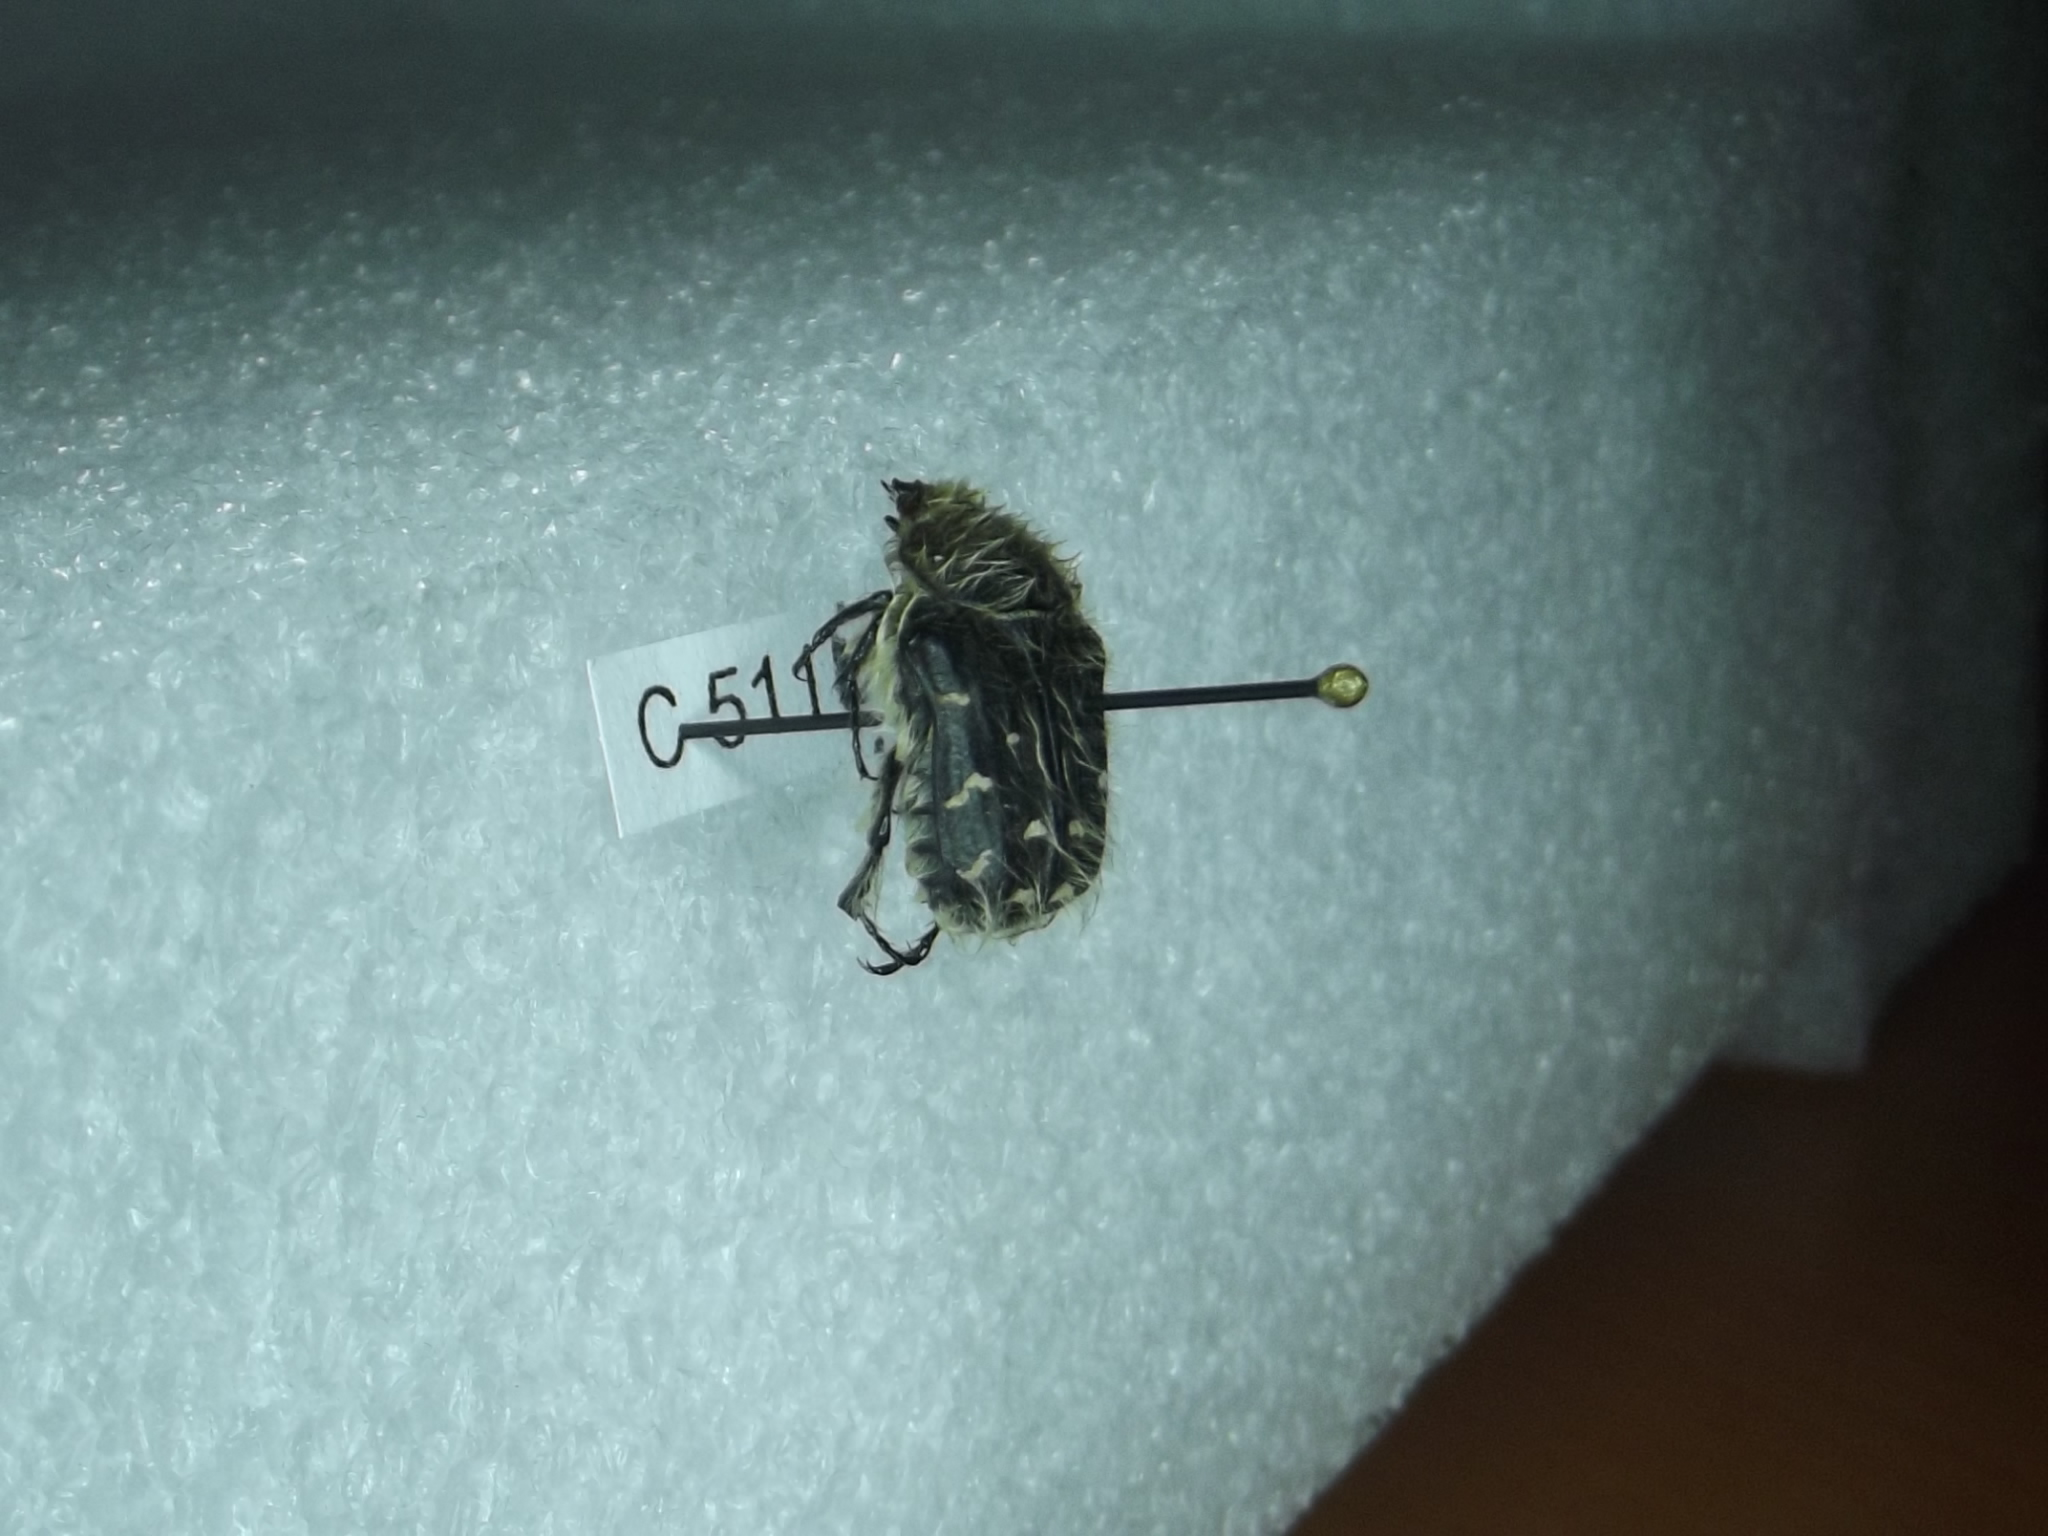Tropinota_senicula: (834, 445, 1184, 987)
